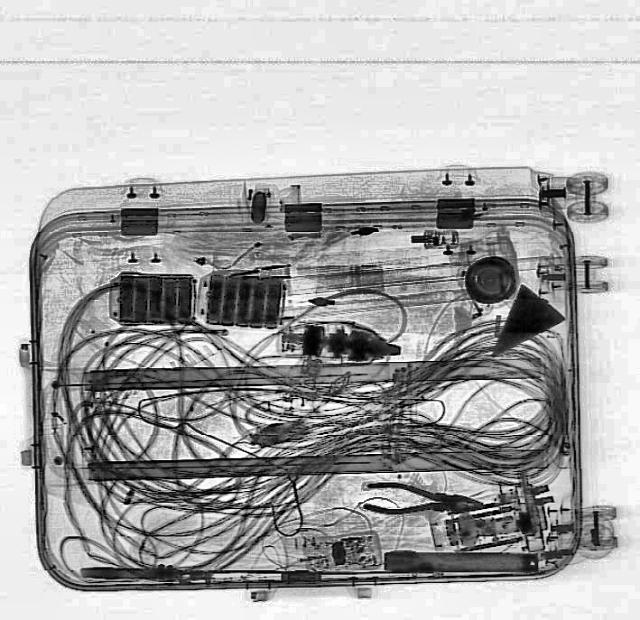Pliers: (360, 478, 484, 522)
